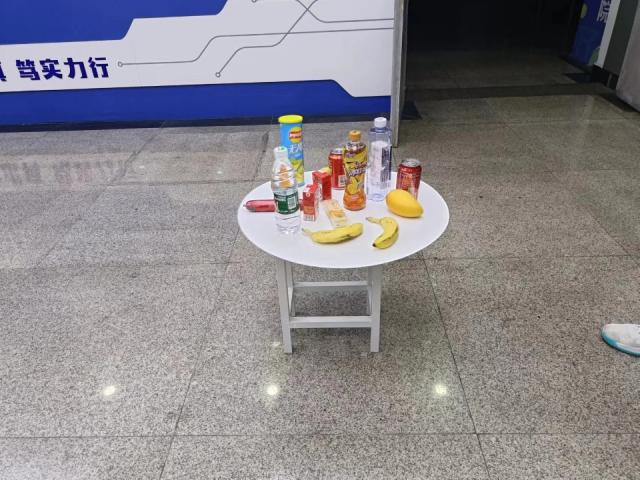Canned_drinks: (397, 157, 421, 202), (329, 148, 350, 190)
bottle: (271, 145, 303, 236), (369, 117, 390, 202)
cylinder: (278, 115, 306, 188)
drink_box: (370, 140, 392, 189), (312, 169, 334, 202), (302, 184, 321, 222)
